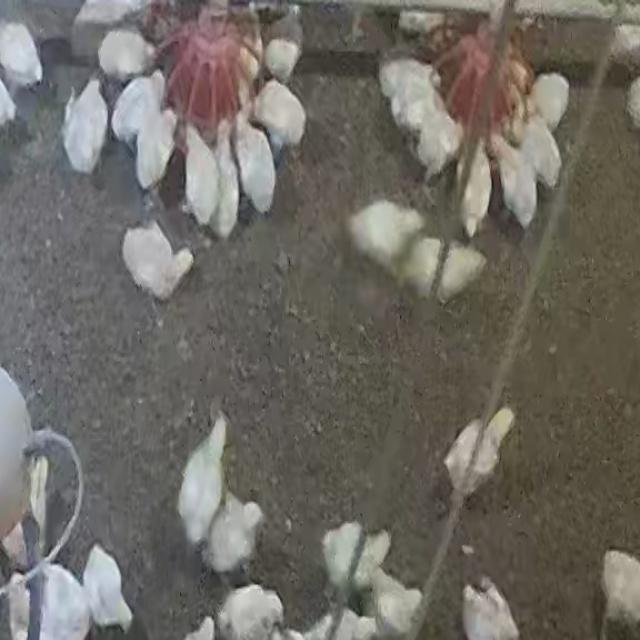chicken: (178, 412, 230, 552), (444, 410, 515, 500), (119, 220, 194, 299), (346, 199, 424, 273), (206, 492, 266, 577), (58, 81, 110, 175), (82, 544, 135, 634), (28, 563, 92, 636), (182, 123, 223, 232), (234, 118, 278, 218), (218, 582, 290, 640), (413, 100, 462, 184), (252, 78, 306, 154), (134, 99, 176, 194), (111, 70, 165, 142), (456, 141, 494, 236), (499, 142, 539, 230), (210, 126, 242, 235), (95, 27, 155, 83), (518, 114, 562, 190), (433, 244, 486, 305), (396, 235, 446, 299), (264, 5, 302, 79), (529, 71, 570, 132), (73, 0, 147, 30)
